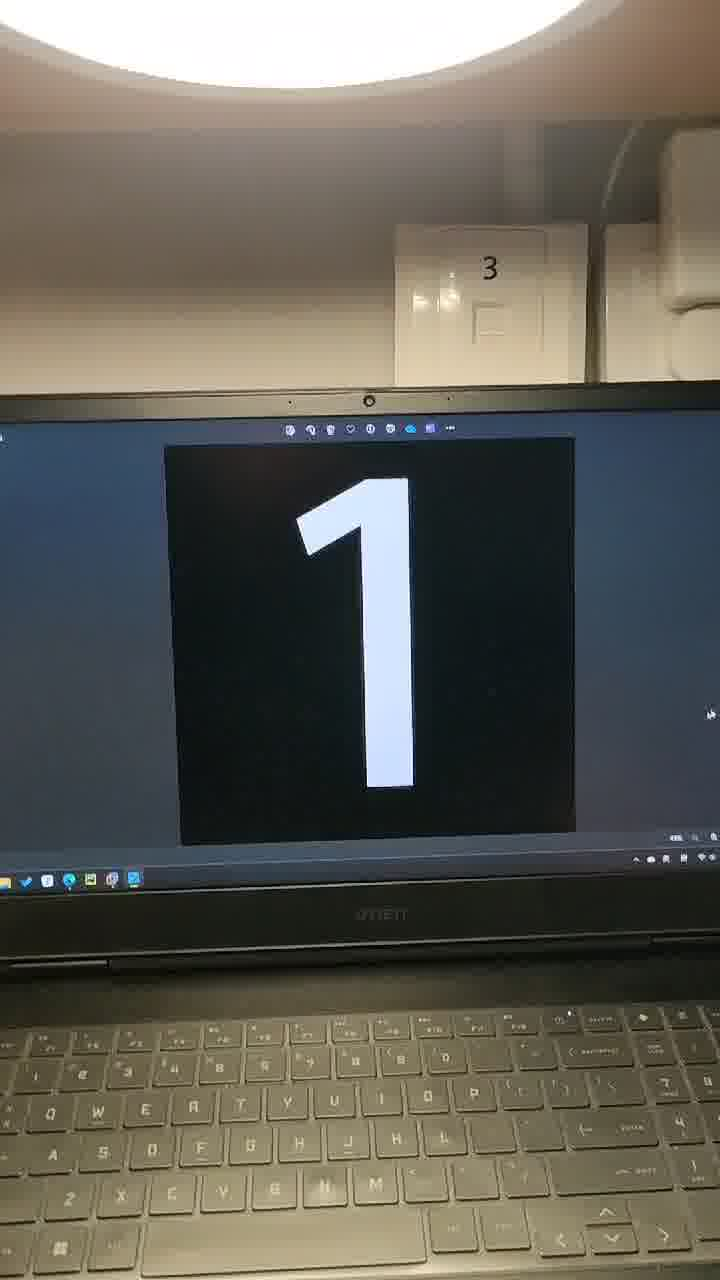one: (229, 386, 489, 820)
